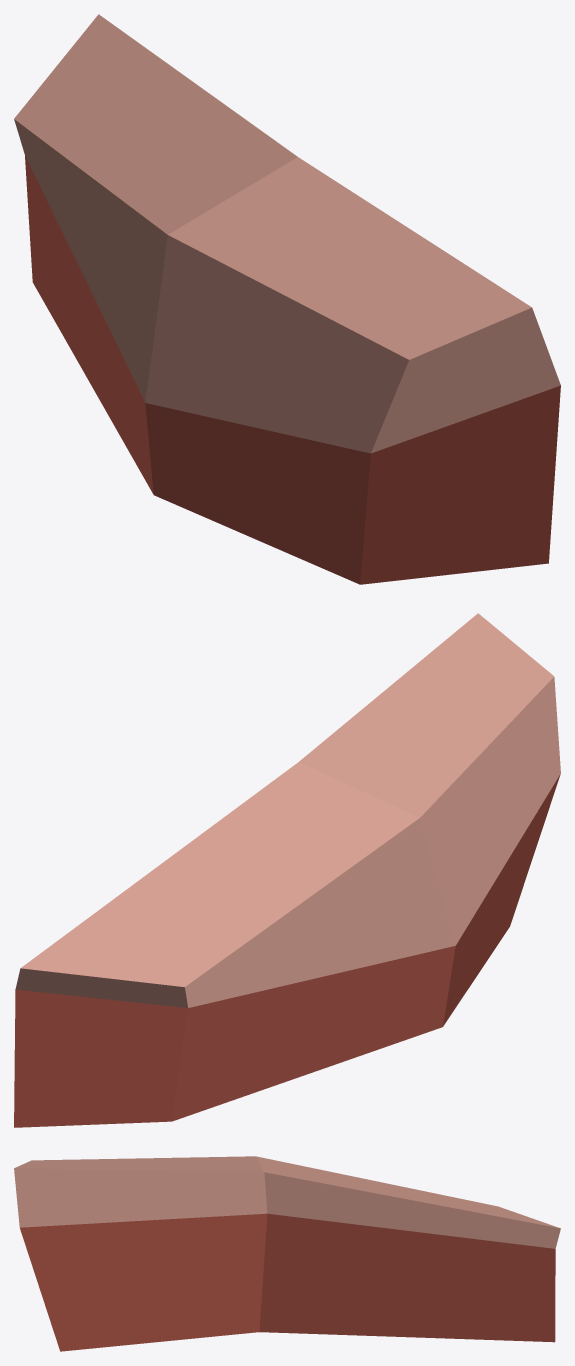
Rendered from picanhaCut03.fbx.
The picture shows the model from 3 angles, top to bottom: view 1: azimuth 30°, elevation 25°; view 2: azimuth 150°, elevation 25°; view 3: azimuth 270°, elevation 25°; orthographic projection. The views are drawn at different scales.
Visible parts, largest first — view 1: picanhaCut03; view 2: picanhaCut03; view 3: picanhaCut03.
Boxes of the visible parts, x1,y1,x2,y2 form: picanhaCut03: (14, 14, 560, 584); picanhaCut03: (14, 613, 560, 1127); picanhaCut03: (14, 1156, 560, 1351).
Bounding box in the file's own units: 4.3 × 4.93 × 14.6.
Materials: 1 (1 with a texture image).
